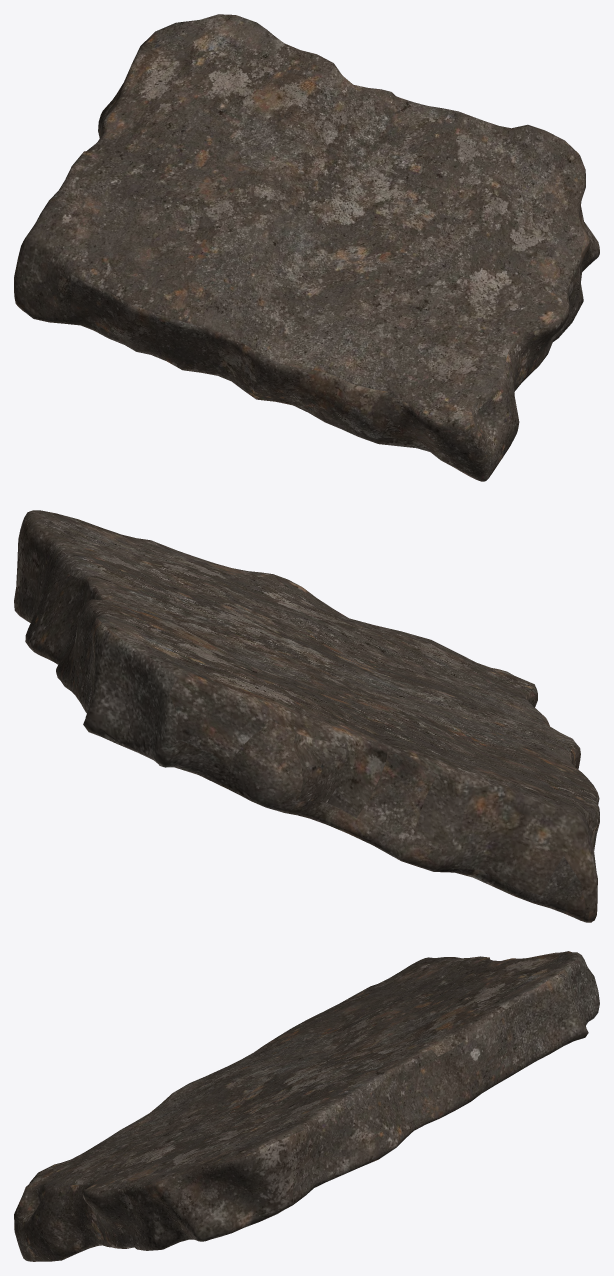
File: rock1.glb
3 views of the same model, one above another, from view 1: azimuth 30°, elevation 25°; view 2: azimuth 150°, elevation 25°; view 3: azimuth 270°, elevation 25° (orthographic). The views are drawn at different scales.
Parts seen in each view (by area): view 1: Volume Mesher_remesh; view 2: Volume Mesher_remesh; view 3: Volume Mesher_remesh.
Boxes of the visible parts, left/top/right/bottom form: Volume Mesher_remesh: left=14, top=14, right=599, bottom=481; Volume Mesher_remesh: left=14, top=510, right=599, bottom=922; Volume Mesher_remesh: left=14, top=951, right=599, bottom=1261.
Size of the model in its own units: 81.6 by 45.4 by 83.98.
1 material, 1 textured.
